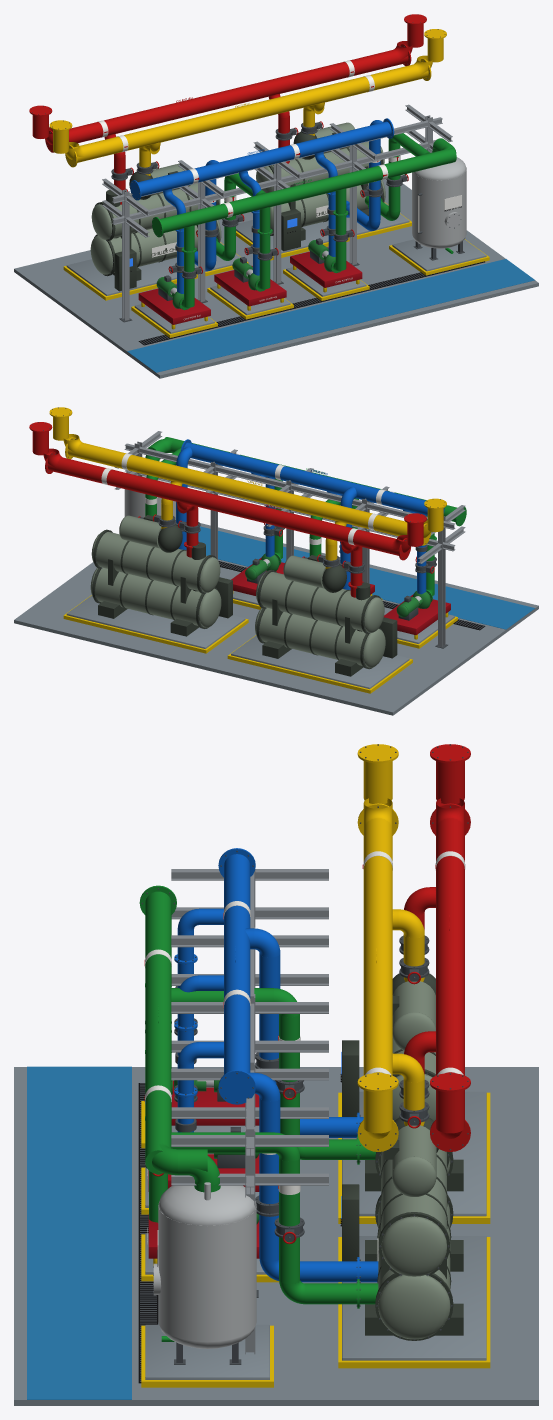
Rendered from cooling-room.glb.
3 renders of one model, top to bottom at view 1: azimuth 30°, elevation 25°; view 2: azimuth 150°, elevation 25°; view 3: azimuth 270°, elevation 25°, orthographic. The views are drawn at different scales.
Visible parts, largest first — view 1: CR_Slab, CR_Walkway, CR_Header_CW_Y, CR_Header_CW_R, CR_Header_CHWR, CR_CH1_Body, CR_Tank_Vessel, CR_Header_CHWS, CR_CH2_Body, CR_CW_HeaderEnds, CR_PadChiller1, CR_Pump1_Set (+32 smaller); view 2: CR_Slab, CR_CH2_Body, CR_CH1_Body, CR_Header_CW_R, CR_Header_CW_Y, CR_Walkway, CR_Header_CHWS, CR_CW_HeaderEnds, CR_PadChiller1, CR_PadChiller2, CR_BeamT2, CR_Pump1_Set (+19 smaller); view 3: CR_Slab, CR_Walkway, CR_CH2_Body, CR_Tank_Vessel, CR_Header_CW_Y, CR_Header_CW_R, CR_Header_CHWR, CR_CW_HeaderEnds, CR_PadChiller2, CR_Header_CHWS, CR_Tie_CHWR_CH2, CR_CH1_Body (+27 smaller).
Part boxes in pixels (x1,y1,x2,y2): CR_Slab: [14, 179, 538, 378]; CR_Walkway: [127, 259, 534, 372]; CR_Header_CW_Y: [65, 58, 431, 175]; CR_Header_CW_R: [45, 44, 411, 190]; CR_Header_CHWR: [152, 138, 456, 237]; CR_CH1_Body: [90, 163, 221, 280]; CR_Tank_Vessel: [412, 157, 466, 260]; CR_Header_CHWS: [130, 118, 394, 200]; CR_CH2_Body: [256, 122, 385, 240]; CR_CW_HeaderEnds: [29, 14, 446, 159]; CR_PadChiller1: [66, 242, 240, 295]; CR_Pump1_Set: [138, 275, 210, 329]; CR_Slab: [14, 523, 538, 715]; CR_CH2_Body: [90, 515, 221, 636]; CR_CH1_Body: [255, 555, 385, 676]; CR_Header_CW_R: [45, 451, 411, 593]; CR_Header_CW_Y: [65, 437, 431, 568]; CR_Walkway: [198, 526, 534, 629]; CR_Header_CHWS: [180, 439, 444, 515]; CR_CW_HeaderEnds: [29, 407, 446, 552]; CR_PadChiller1: [231, 635, 409, 689]; CR_PadChiller2: [66, 595, 245, 648]; CR_BeamT2: [124, 443, 455, 529]; CR_Pump1_Set: [384, 591, 450, 639]; CR_Slab: [14, 1067, 538, 1405]; CR_Walkway: [27, 1066, 131, 1399]; CR_CH2_Body: [365, 1117, 463, 1340]; CR_Tank_Vessel: [153, 1182, 256, 1364]; CR_Header_CW_Y: [357, 803, 429, 1151]; CR_Header_CW_R: [399, 803, 470, 1151]; CR_Header_CHWR: [139, 885, 220, 1192]; CR_CW_HeaderEnds: [357, 744, 470, 1138]; CR_PadChiller2: [342, 1236, 486, 1360]; CR_Header_CHWS: [218, 848, 255, 1104]; CR_Tie_CHWR_CH2: [171, 1132, 357, 1304]; CR_CH1_Body: [365, 973, 463, 1191].
Bounding box in the file's own units: 12.48 × 5.43 × 8.
